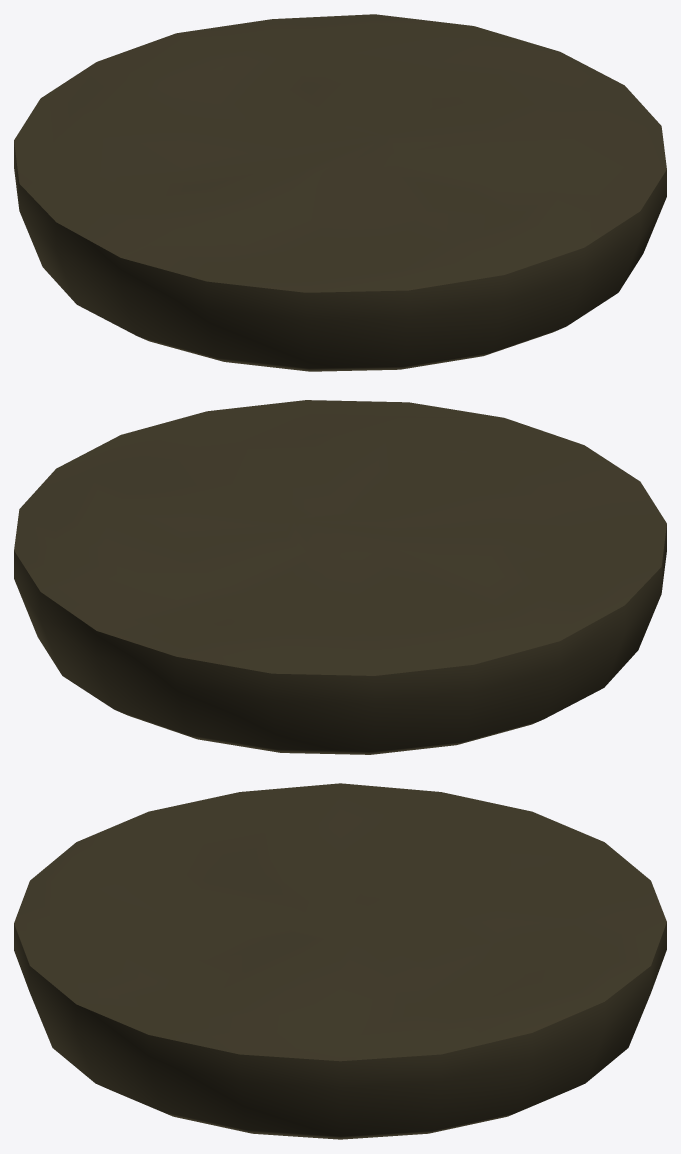
Rendered from dirt.fbx.
3 views of the same model, one above another, from view 1: azimuth 30°, elevation 25°; view 2: azimuth 150°, elevation 25°; view 3: azimuth 270°, elevation 25° (orthographic).
Parts seen in each view (by area): view 1: pCylinder4; view 2: pCylinder4; view 3: pCylinder4.
Boxes of the visible parts, bbox=[...] form: pCylinder4: bbox=[14, 14, 666, 371]; pCylinder4: bbox=[14, 400, 666, 754]; pCylinder4: bbox=[14, 783, 666, 1139].
Size of the model in its own units: 32.89 by 5.7 by 32.89.
